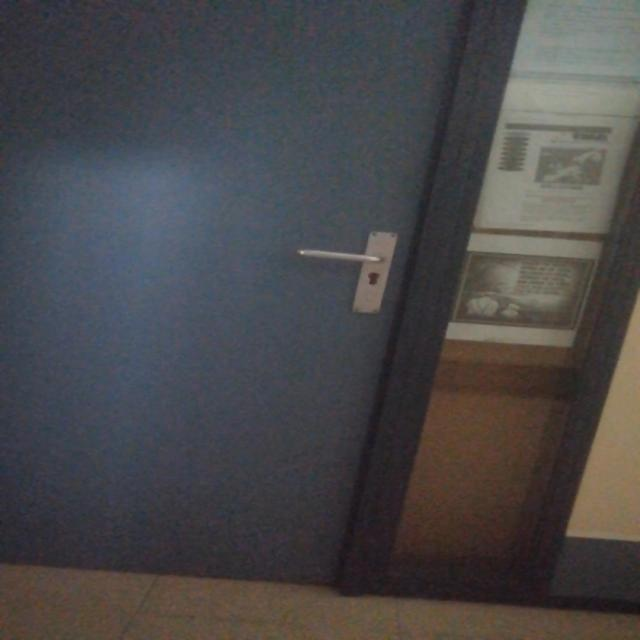door_handle: (296, 245, 392, 267)
